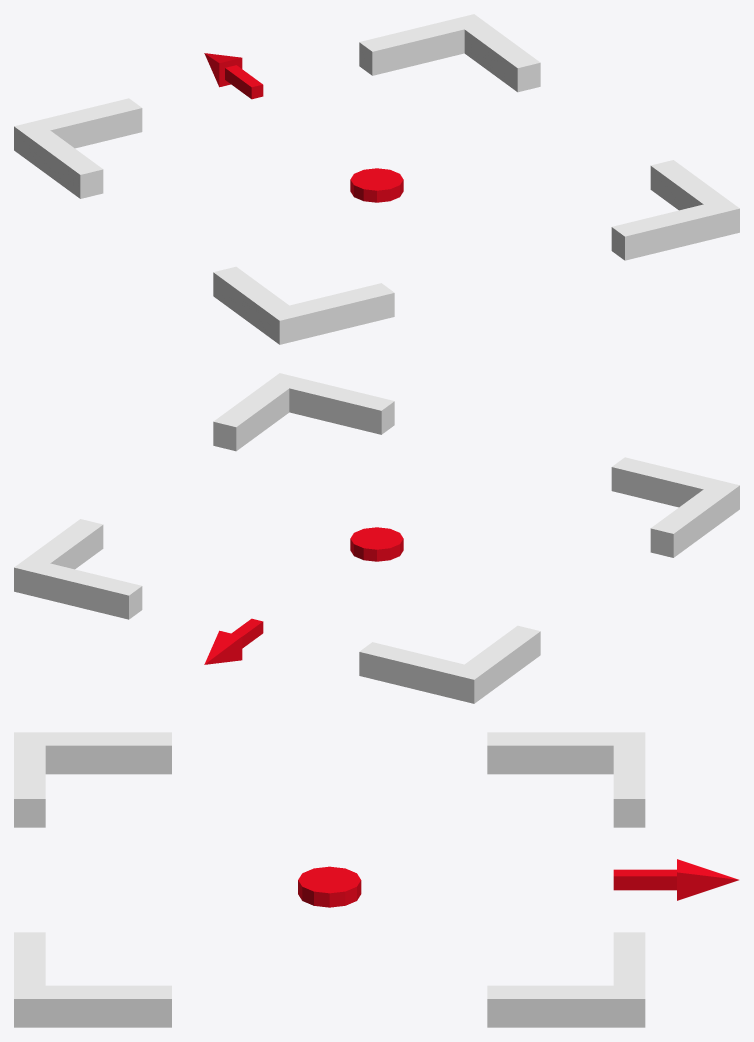
3 renders of one model, top to bottom at view 1: azimuth 30°, elevation 25°; view 2: azimuth 150°, elevation 25°; view 3: azimuth 270°, elevation 25°, orthographic. The views are drawn at different scales.
Parts seen in each view (by area): view 1: i_frame_Cube.002, pointer_Cylinder, arrow_Cube; view 2: i_frame_Cube.002, pointer_Cylinder, arrow_Cube; view 3: i_frame_Cube.002, arrow_Cube, pointer_Cylinder.
Part boxes in pixels (bbox=[...]): i_frame_Cube.002: bbox=[14, 14, 739, 344]; pointer_Cylinder: bbox=[350, 168, 403, 202]; arrow_Cube: bbox=[204, 53, 263, 99]; i_frame_Cube.002: bbox=[14, 373, 739, 703]; pointer_Cylinder: bbox=[350, 527, 403, 561]; arrow_Cube: bbox=[204, 618, 263, 664]; i_frame_Cube.002: bbox=[14, 732, 645, 1027]; arrow_Cube: bbox=[613, 859, 738, 900]; pointer_Cylinder: bbox=[298, 866, 361, 907].
Bounding box in the file's own units: 4 × 0.2 × 4.6.
1 material, 1 textured.
